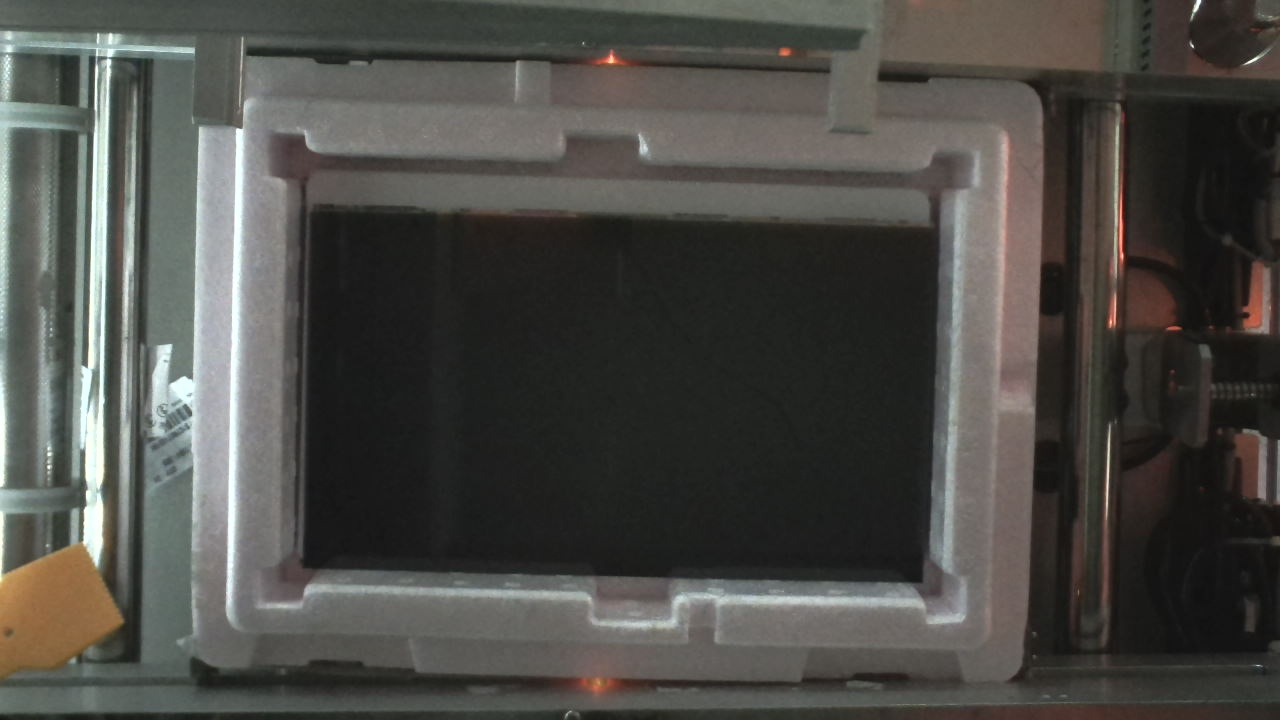OK: (187, 56, 1052, 691)
